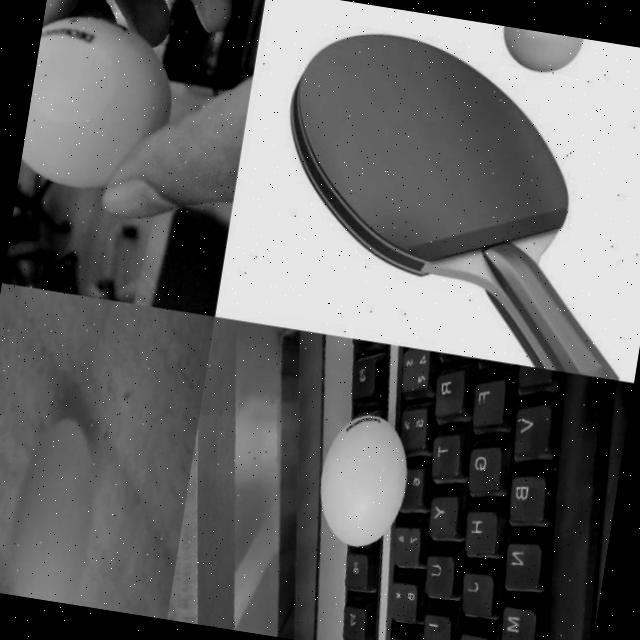ping-pong-ball: (18, 5, 185, 200), (0, 410, 109, 606), (308, 406, 414, 552), (498, 25, 584, 77)
